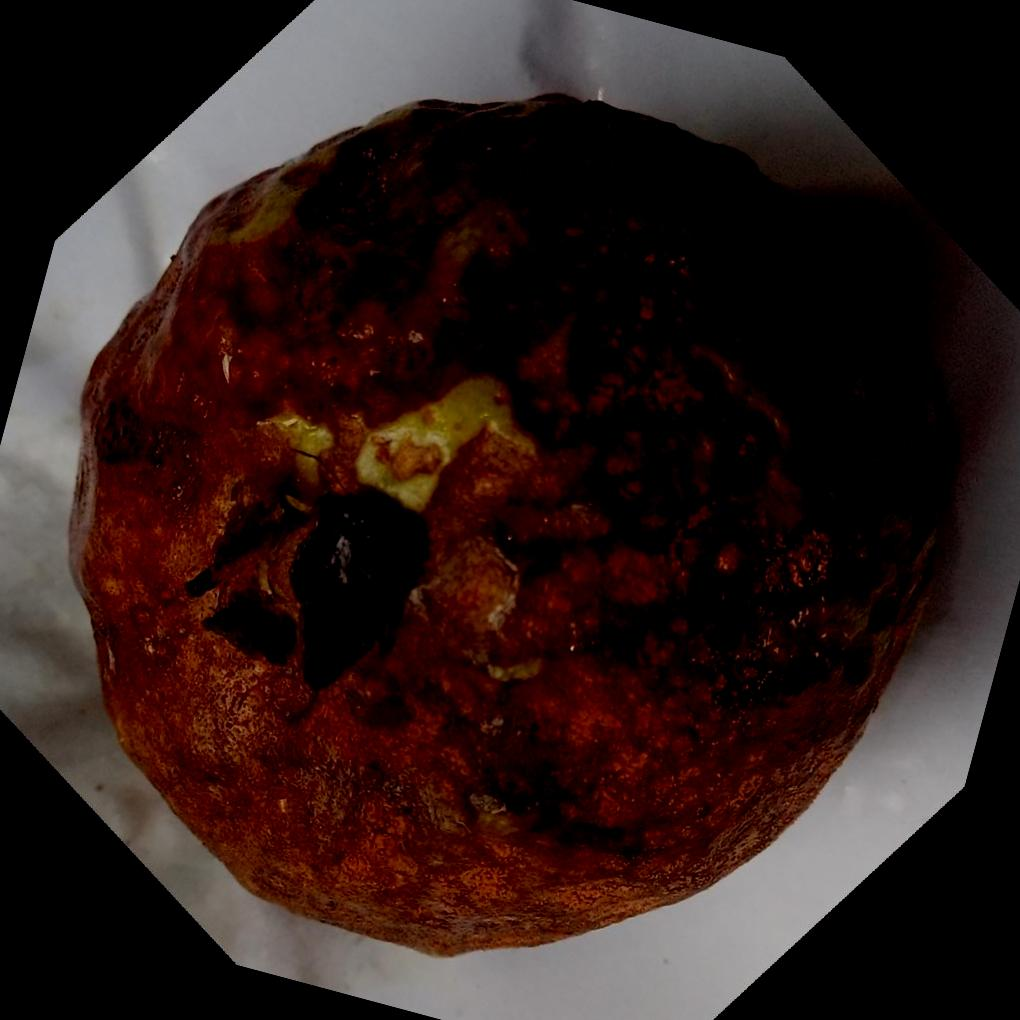FreshOrange: (67, 91, 947, 959)
